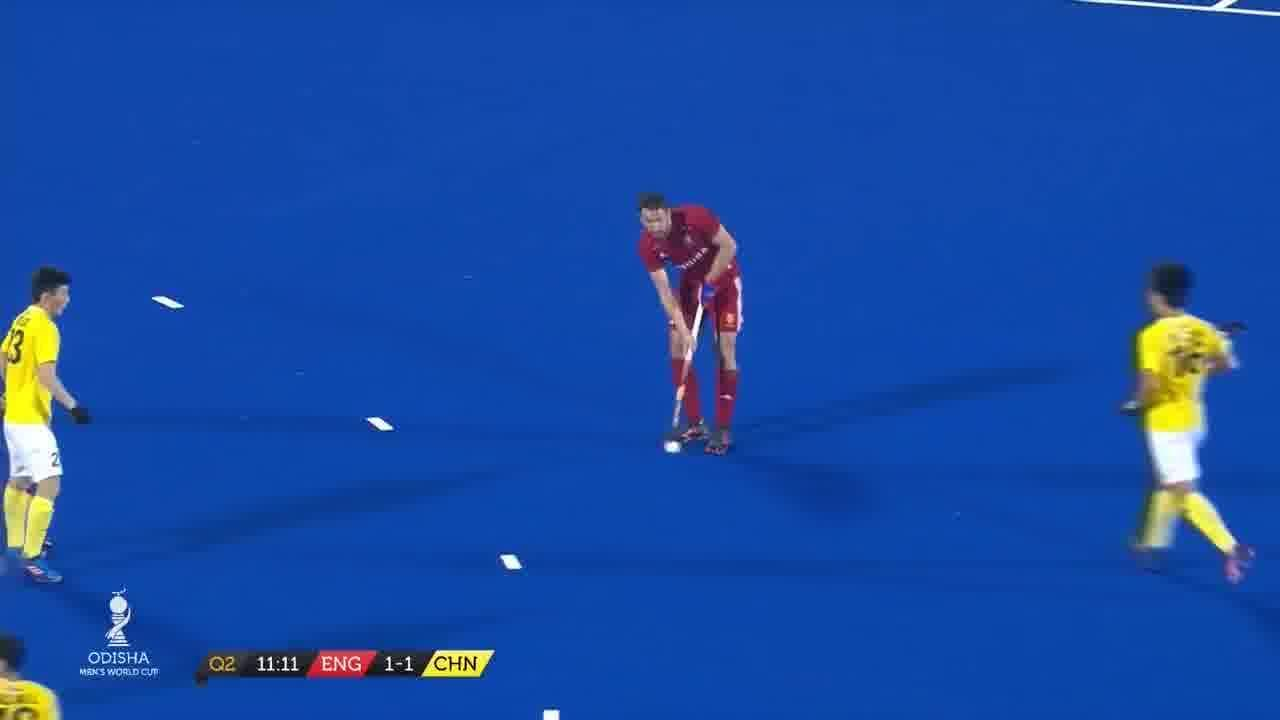ball: (660, 438, 688, 458)
